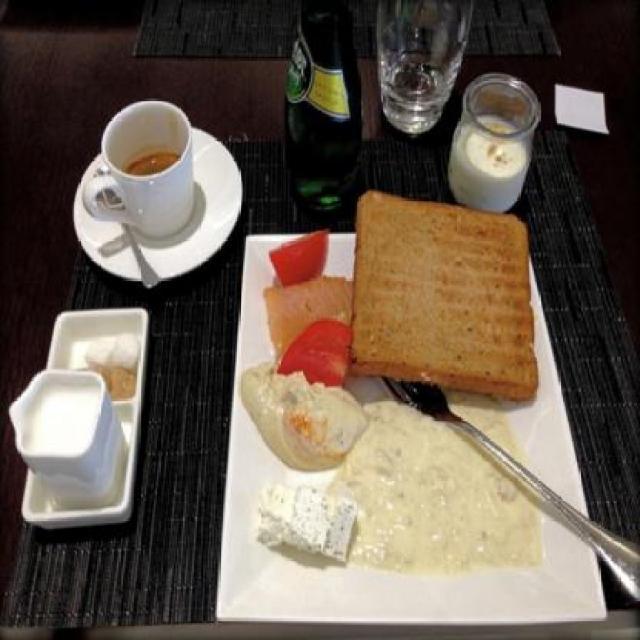Cheese: (255, 478, 362, 560)
